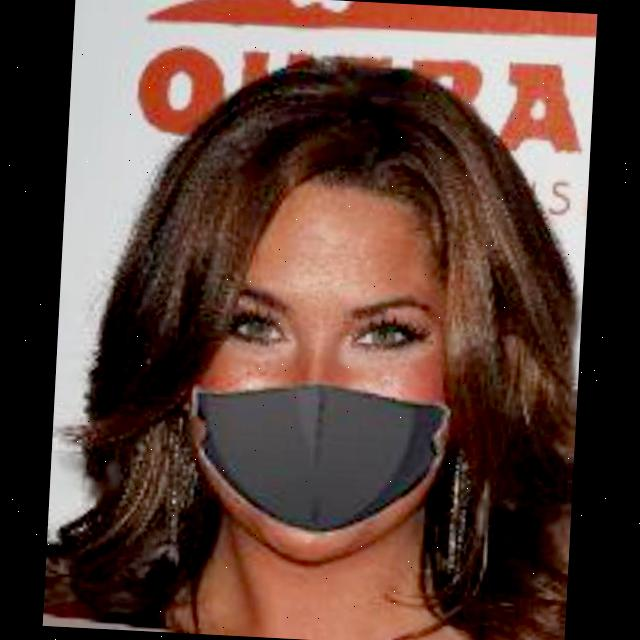suspicion: (201, 147, 468, 558)
